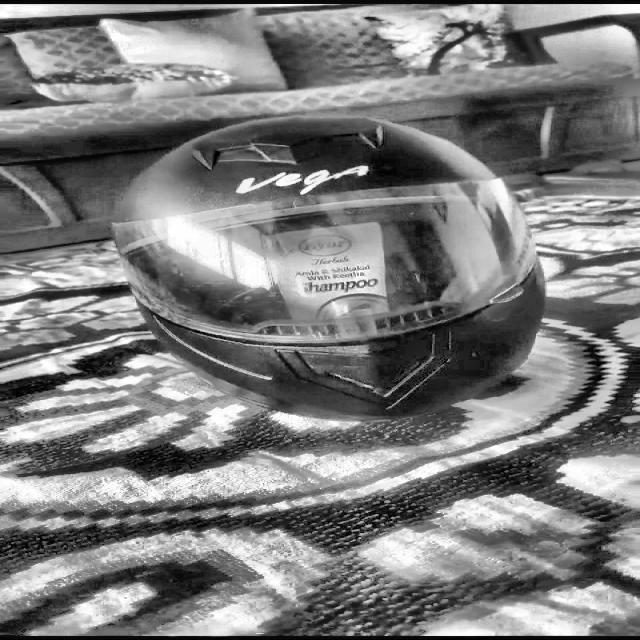Helmet: (97, 108, 548, 424)
